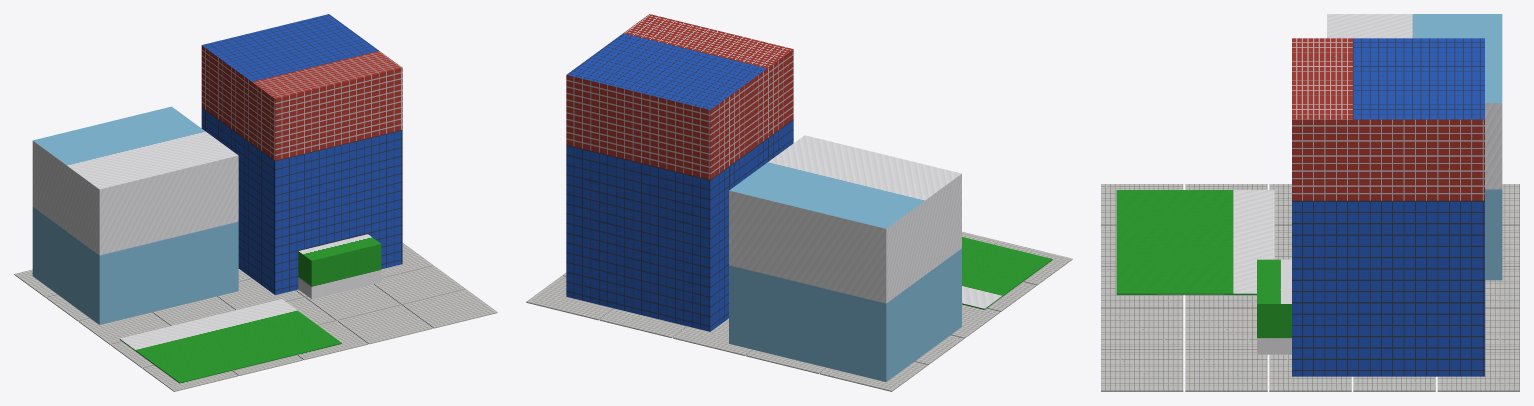
The picture shows the model from 3 angles, left to right: view 1: azimuth 30°, elevation 25°; view 2: azimuth 150°, elevation 25°; view 3: azimuth 270°, elevation 25°; orthographic projection. The views are drawn at different scales.
Parts seen in each view (by area): view 1: 28185_B24_SUNY_Korea; view 2: 28185_B24_SUNY_Korea; view 3: 28185_B24_SUNY_Korea.
Boxes of the visible parts, <box> form: 28185_B24_SUNY_Korea: <box>14,14,497,391</box>; 28185_B24_SUNY_Korea: <box>526,14,1072,391</box>; 28185_B24_SUNY_Korea: <box>1101,14,1519,391</box>.
Size of the model in its own units: 55.8 by 32.5 by 47.8.
Materials: 1 (1 with a texture image).
